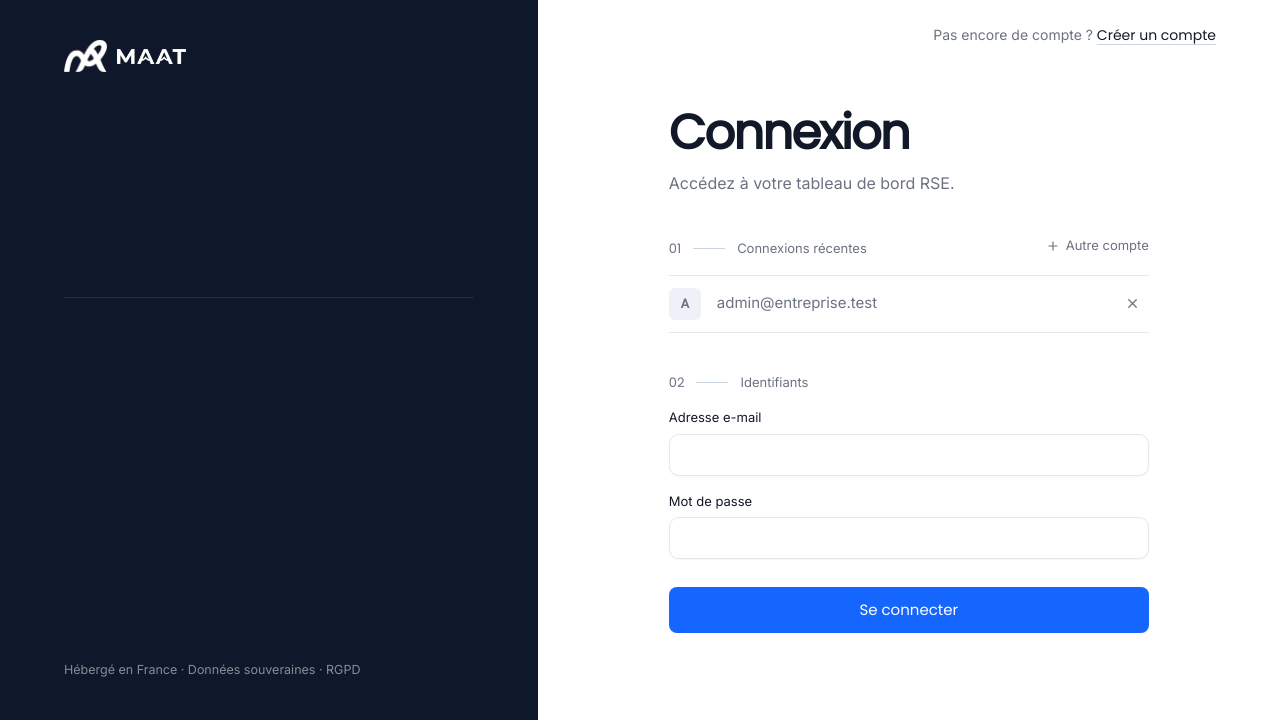
Test: LoginPage › affiche le message d’erreur, annoncé, sur échec de connexion
Type "a@test.test" into the field labelled "Adresse e-mail" at (909, 455), box [669,434,1149,476]
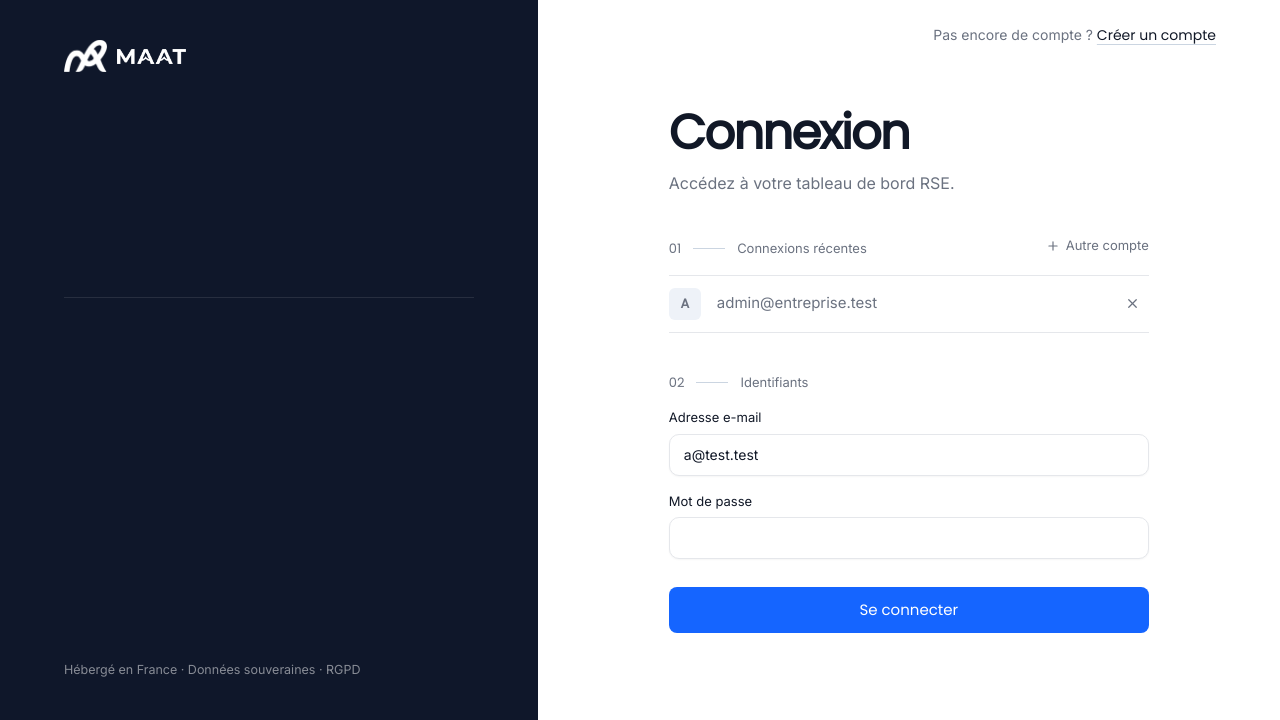
Type "mauvais-mot-de-passe" into the password field labelled "Mot de passe" at (909, 538), box [669,517,1149,559]
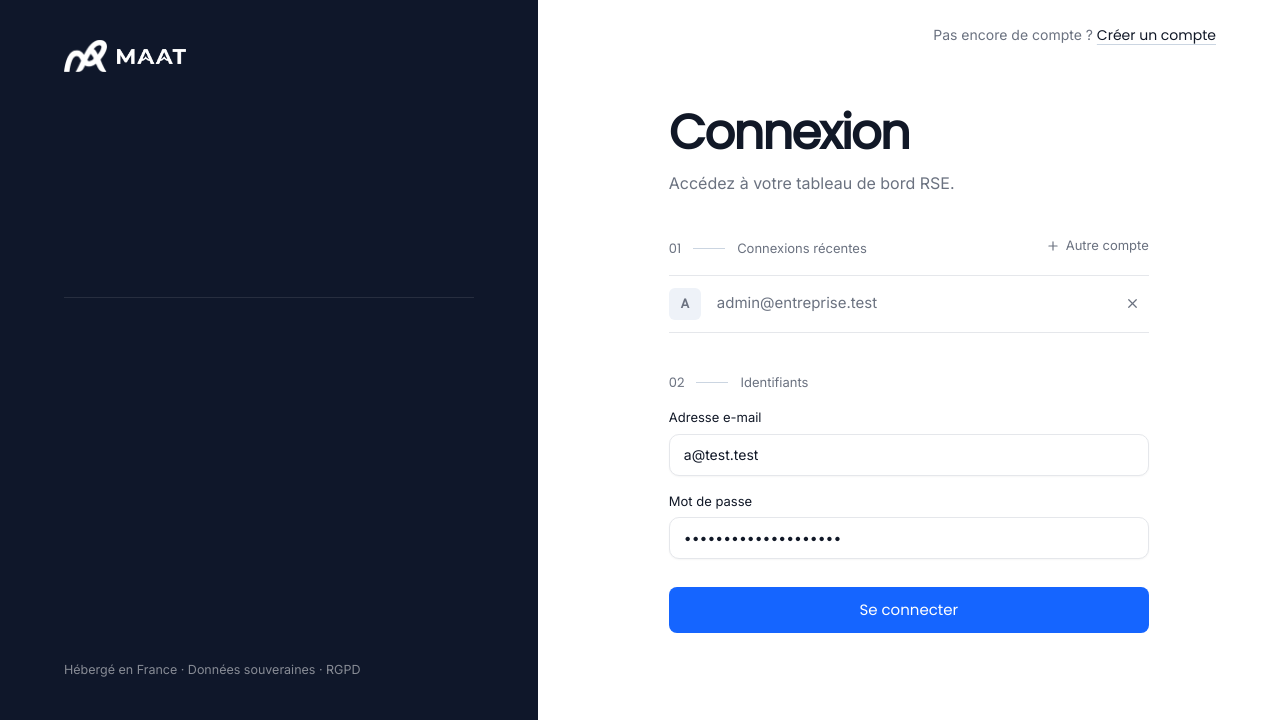
Click the button "Se connecter" at (909, 610), box [669,587,1149,632]
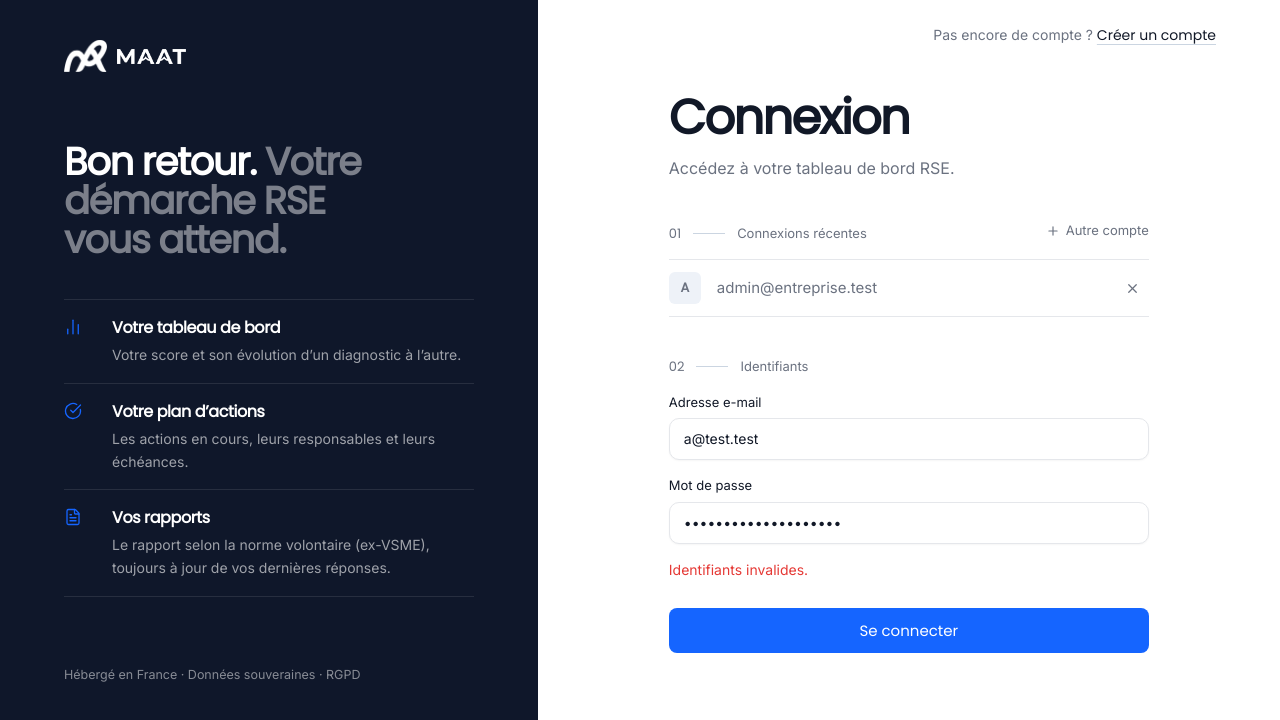
Expected: the message reads "Identifiants invalides.", [669,561,808,578]
